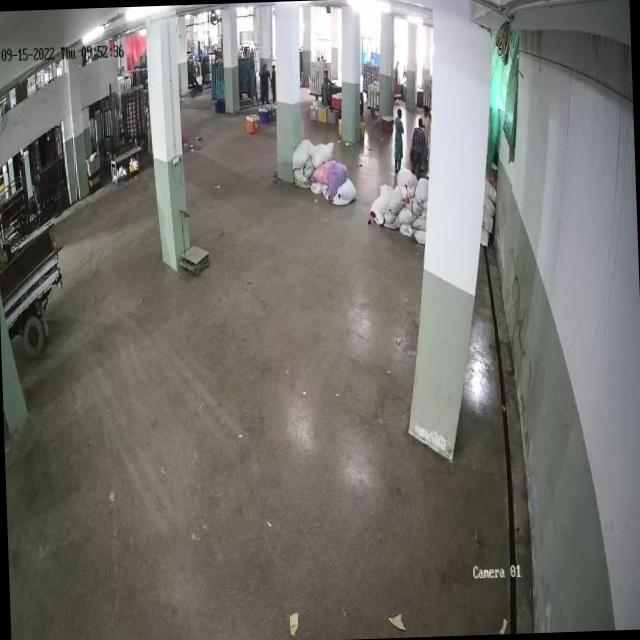person: (418, 104, 433, 172), (410, 118, 424, 178), (392, 108, 405, 172), (321, 68, 335, 106), (249, 63, 261, 107), (262, 60, 270, 101), (259, 65, 267, 103), (270, 63, 277, 102), (395, 59, 400, 83), (371, 55, 375, 65)
